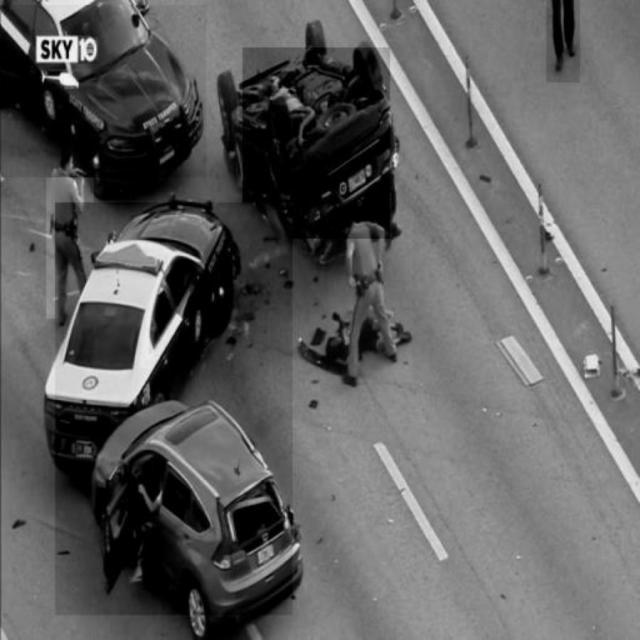accident: (55, 203, 293, 616)
person: (329, 211, 412, 383), (46, 143, 93, 319), (546, 0, 579, 82)
vehicle: (2, 4, 207, 178), (242, 48, 390, 238)
